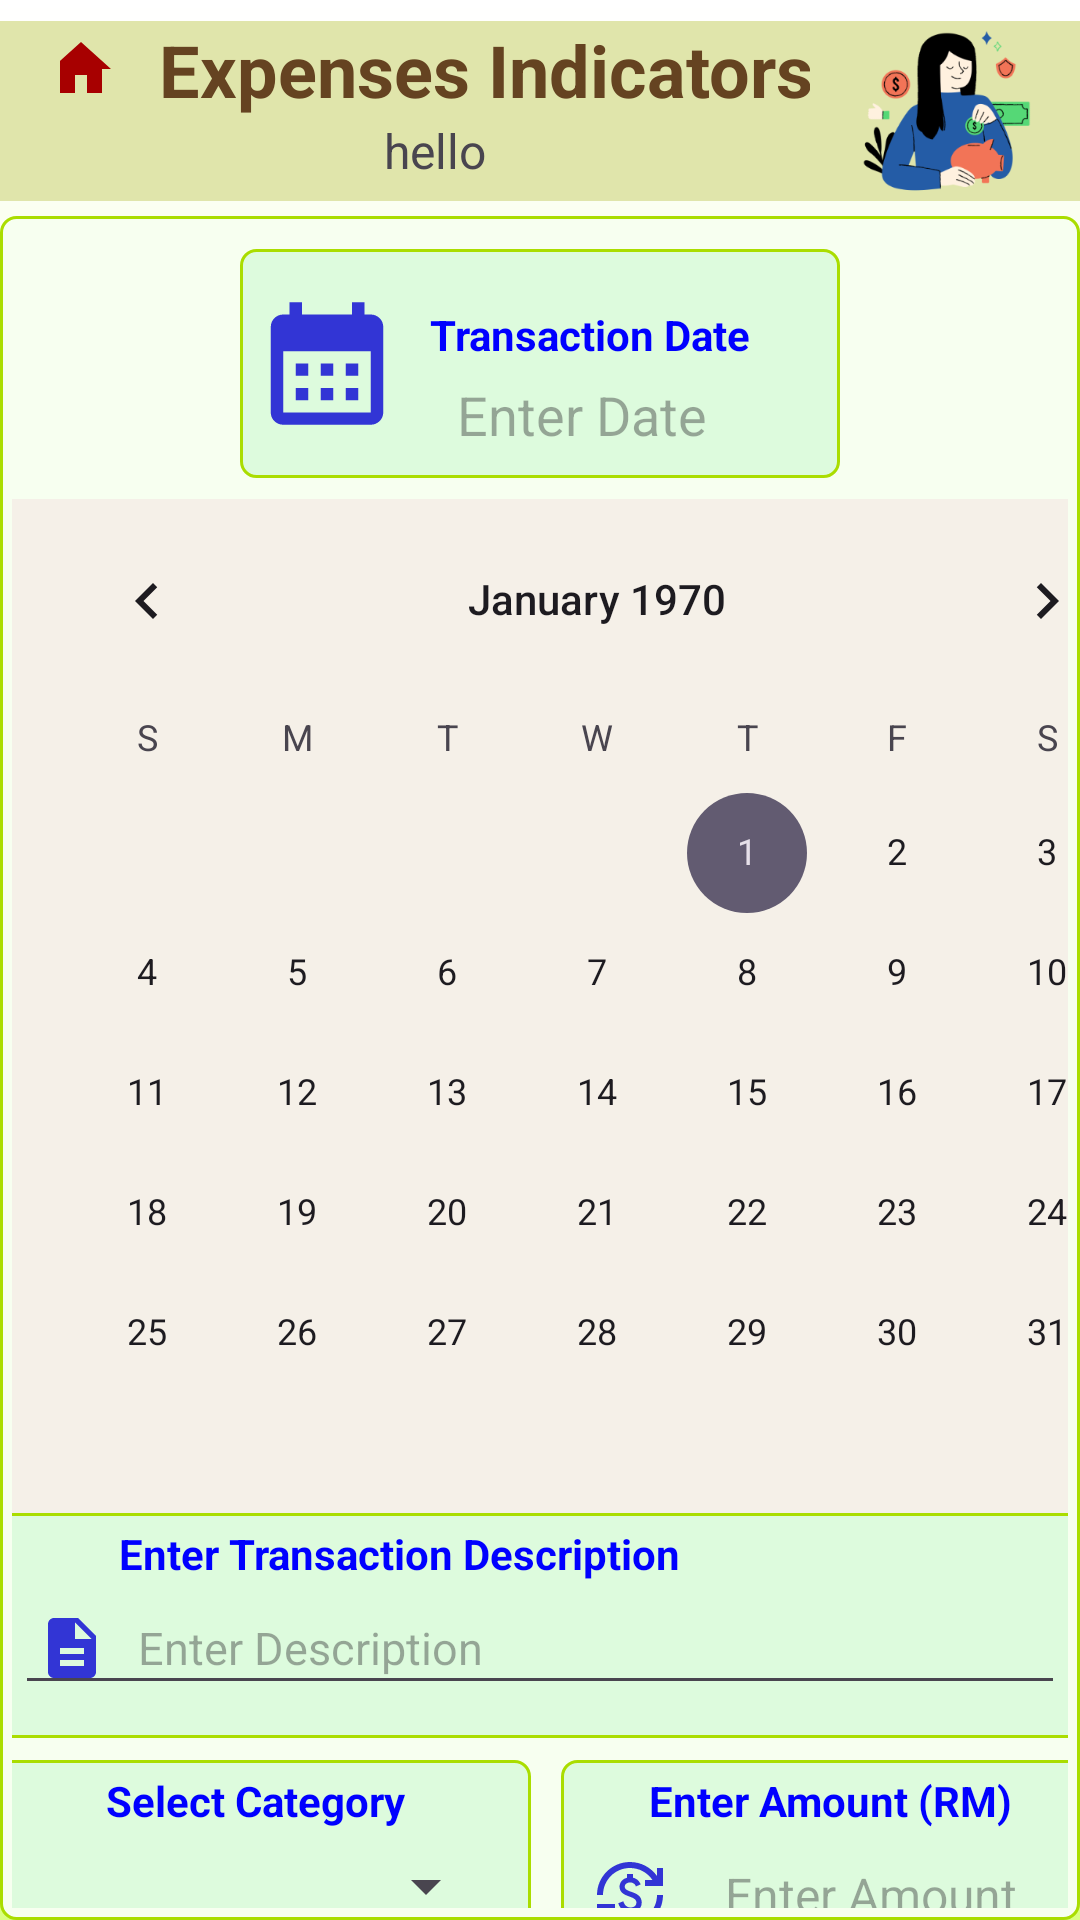

Named icons in this screenshot (1080 x 1920) and their bounding boxes, (x1, y1, x2, y2):
calendar: (270, 302, 384, 425)
dashboardpicture: (810, 21, 1080, 201)
